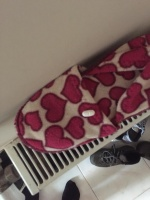Centik Buskopan: (81, 109, 96, 117)
